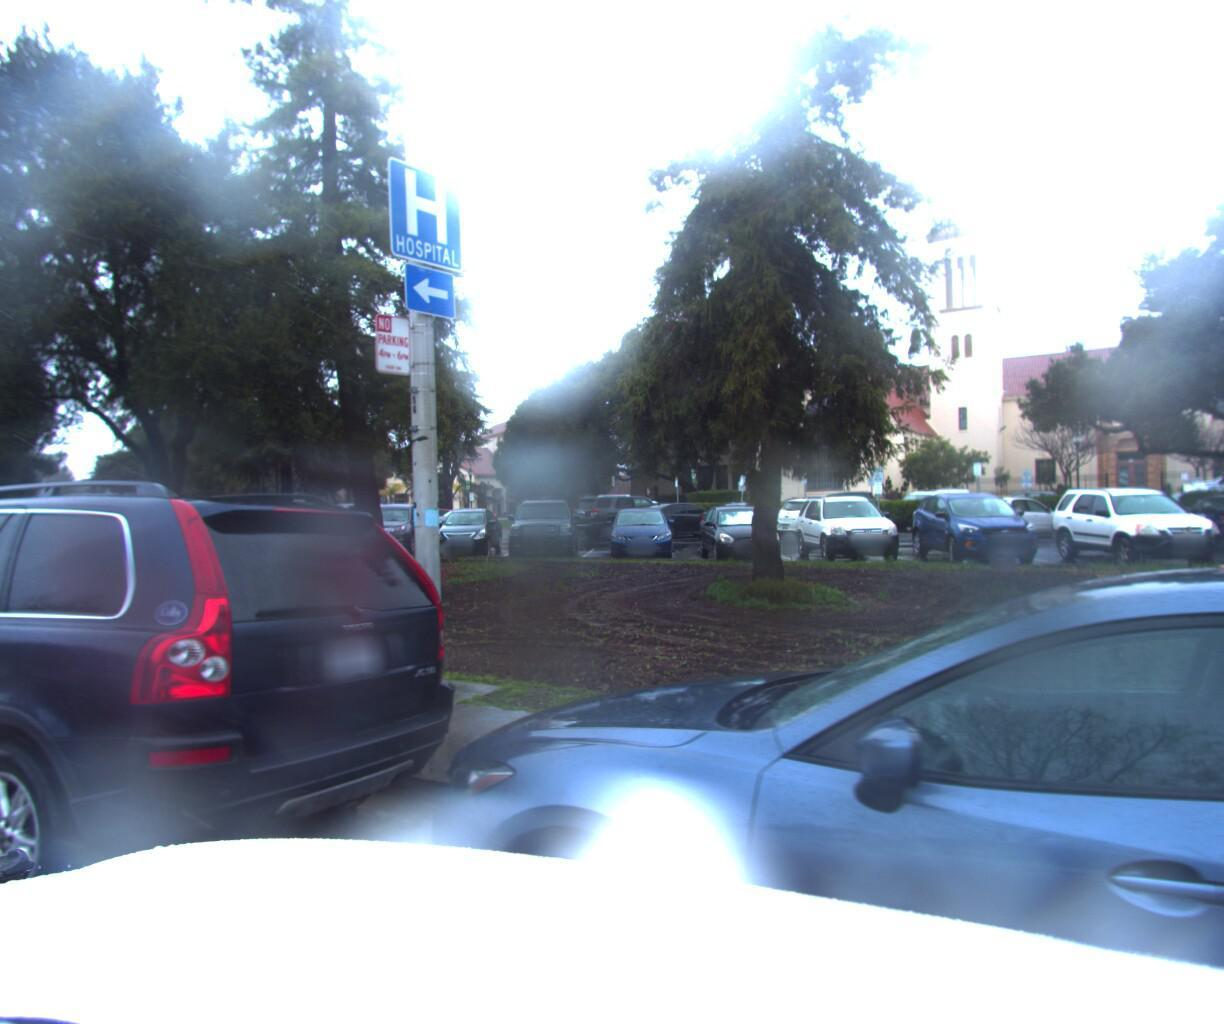car: (332, 548, 1224, 1024), (0, 485, 476, 1024)
